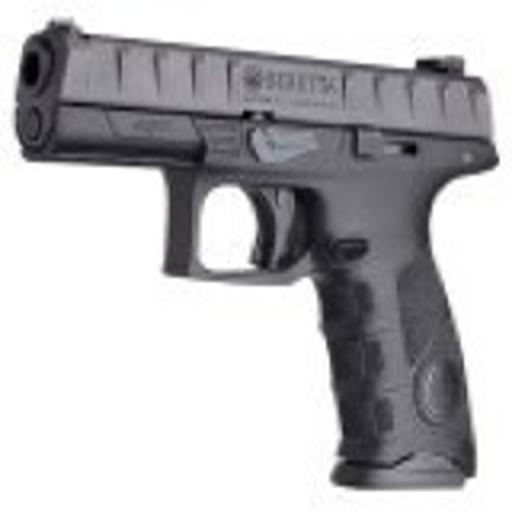Handgun: (11, 11, 498, 498)
